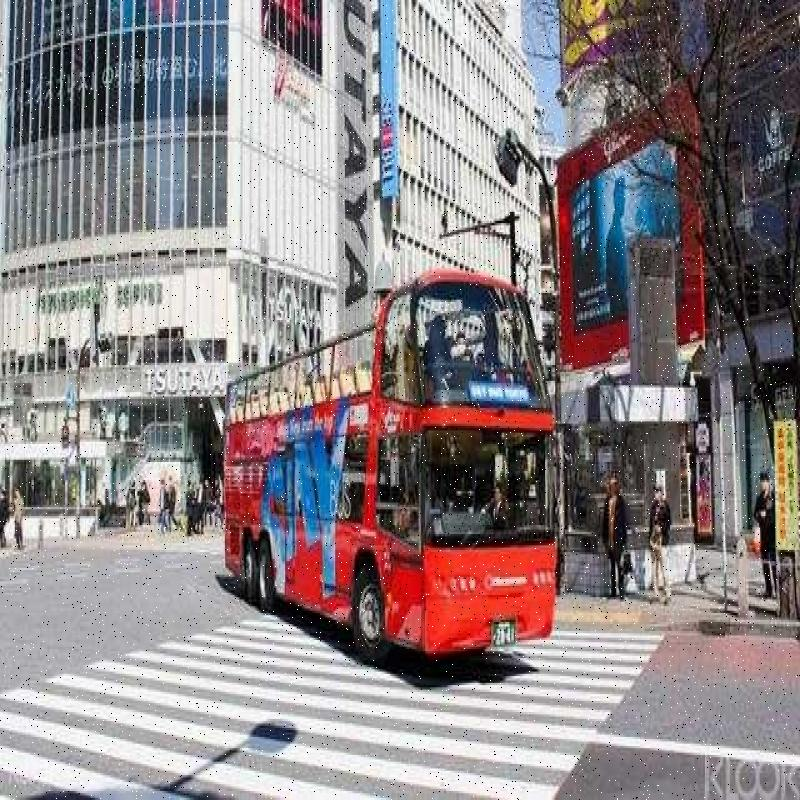bus: (210, 248, 570, 714)
